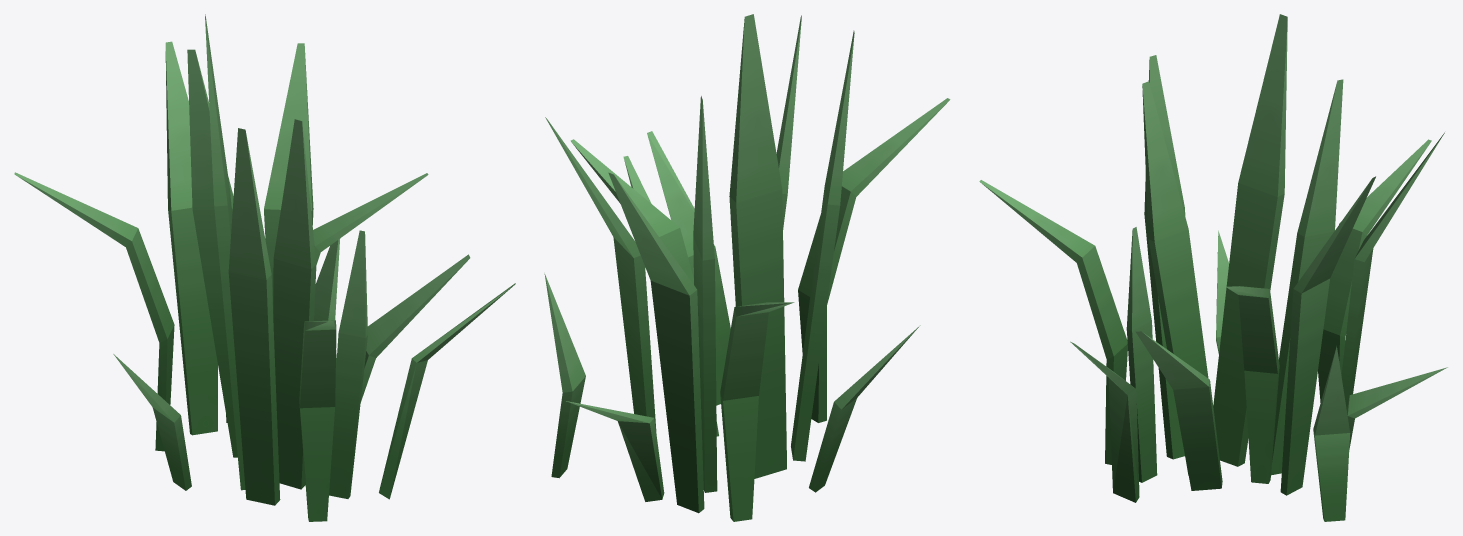
File: SM_GrassLumpLargeC.gltf
3 views of the same model, side by side, from view 1: azimuth 30°, elevation 25°; view 2: azimuth 150°, elevation 25°; view 3: azimuth 270°, elevation 25° (orthographic). The views are drawn at different scales.
Parts seen in each view (by area): view 1: SM_GrassLumpLargeC; view 2: SM_GrassLumpLargeC; view 3: SM_GrassLumpLargeC.
Part boxes in pixels (box(x1,y1,x2,y2)): SM_GrassLumpLargeC: box(14, 14, 515, 521); SM_GrassLumpLargeC: box(544, 14, 950, 521); SM_GrassLumpLargeC: box(979, 14, 1447, 521).
Size of the model in its own units: 0.2001 by 0.2624 by 0.2538.
Materials: 1 (1 with a texture image).
